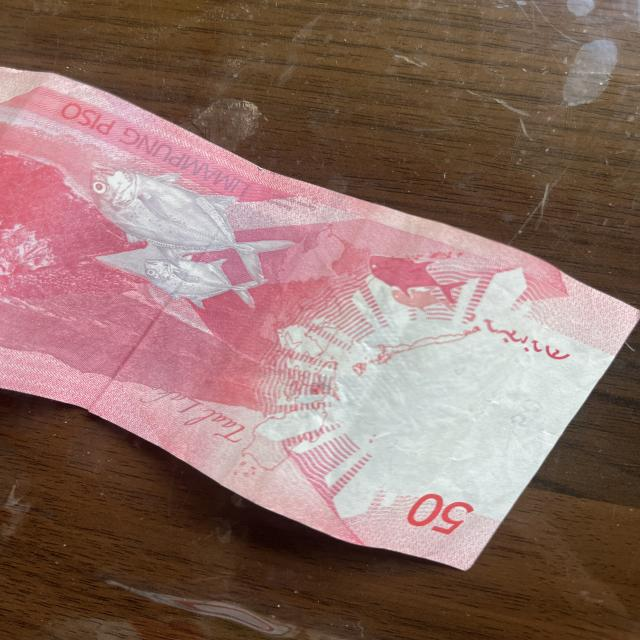50_maliputo: (82, 154, 300, 311)
50_maliputo_watermark: (358, 244, 468, 317)
value_watermark: (501, 391, 548, 436)
watermark: (350, 333, 542, 491)
